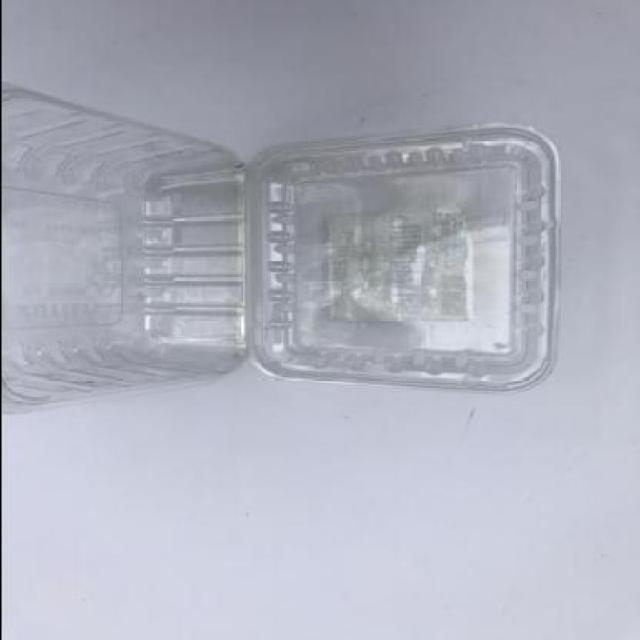PLASTIC: (1, 81, 557, 417), (243, 122, 560, 398), (1, 88, 248, 414)
